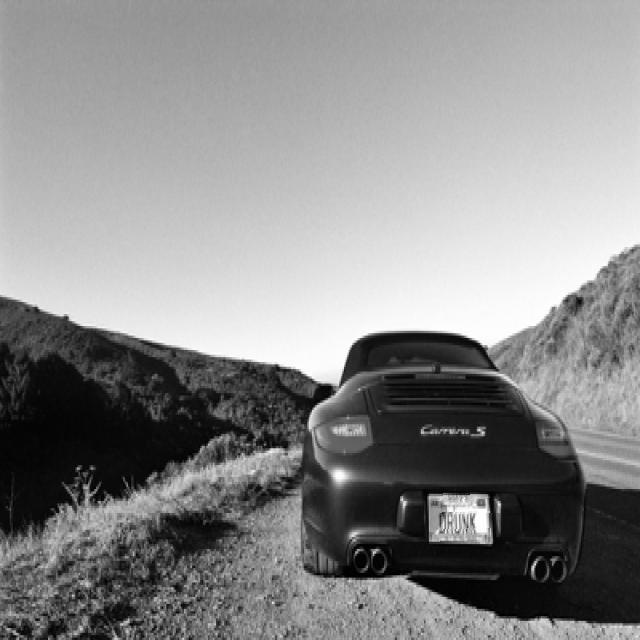licence: (429, 492, 493, 544)
